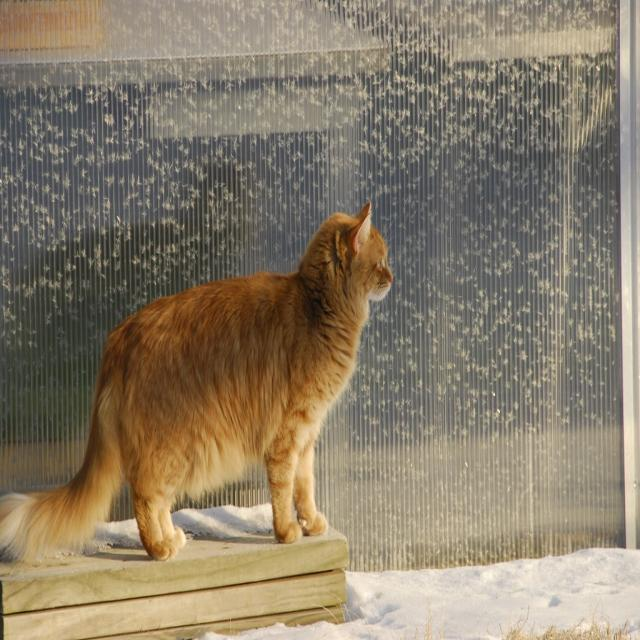Cat: (0, 197, 394, 567)
